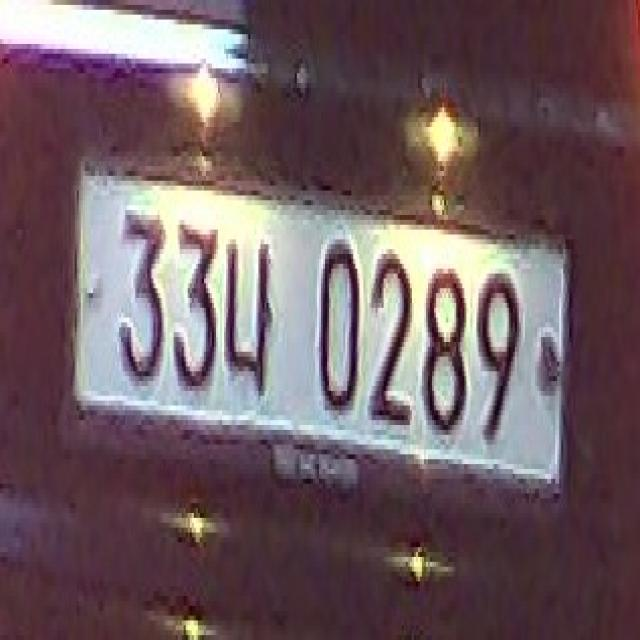0: (313, 220, 361, 415)
2: (365, 244, 414, 435)
3: (172, 215, 220, 396), (119, 205, 166, 386)
8: (422, 254, 468, 430)
9: (474, 259, 519, 445)
license_plate: (77, 156, 565, 488)
na: (220, 224, 277, 406)
